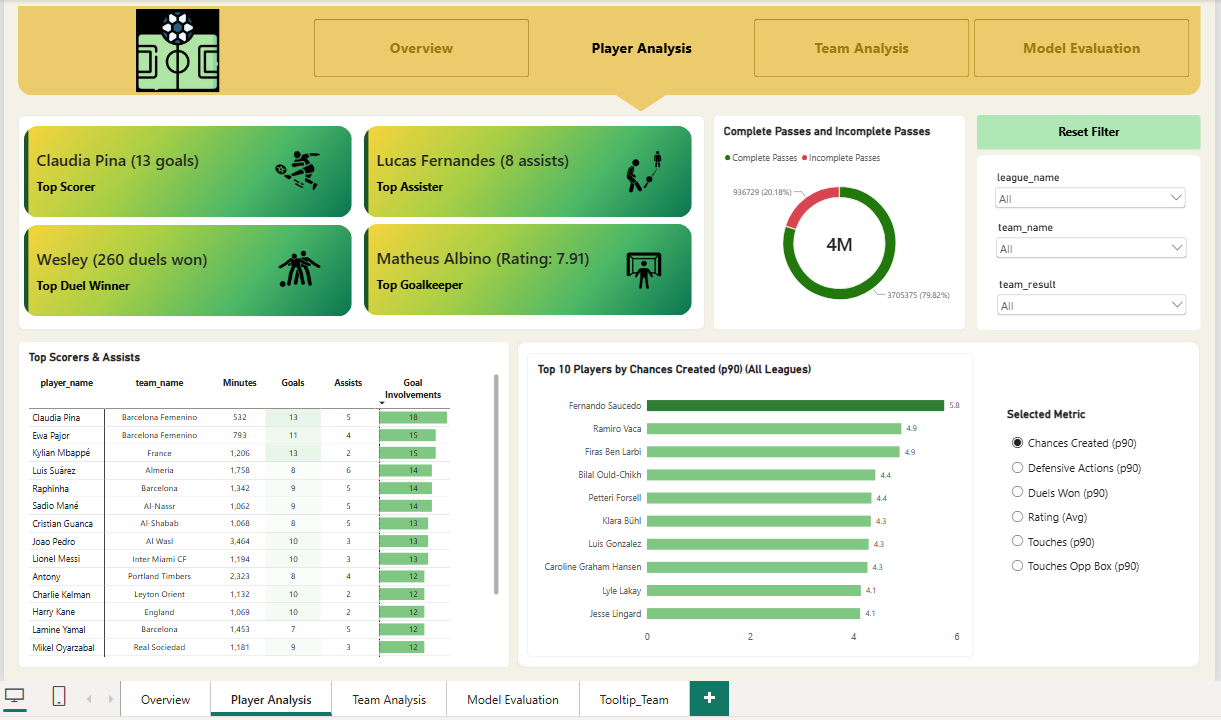

This screenshot's page, from the dashboard's own definition file:
{"tool":"powerbi","page":{"name":"Player Analysis","canvas":[1920,1080],"ordinal":1},"visuals":[{"type":"shape","box":[958.8,110.6,101.1,66.1],"z":0,"group":"g1"},{"type":"shape","box":[21.5,182.8,1089.2,341.1],"z":0},{"type":"shape","box":[1542.4,245.8,354.9,278.1],"z":0,"group":"g3"},{"type":"shape","box":[814.2,540.8,1083.1,517.7],"z":0,"group":"g2"},{"type":"shape","box":[21.5,9.2,1875.8,141.5],"z":1000,"group":"g1"},{"type":"cardVisual","fields":{"Data":["Measures Table.Top Scorer Card"]},"box":[32.3,199.7,520,145],"z":1000},{"type":"slicer","fields":{"Values":["football_players_data.league_name"]},"box":[1565.5,271.2,311.7,65.8],"z":1000,"group":"g3"},{"type":"slicer","title":"Selected Metric","fields":{"Values":["Metric Selection.MetricName"]},"box":[1591.4,645.6,271.5,290.4],"z":1000,"group":"g2"},{"type":"image","box":[135,13.8,277.6,132.3],"z":2000,"group":"g1"},{"type":"cardVisual","fields":{"Data":["Measures Table.Top Assister Card"]},"box":[571.5,199.7,520,145],"z":2000},{"type":"slicer","fields":{"Values":["football_players_data.team_result"]},"box":[1569.5,440.7,310.1,74.3],"z":2000,"group":"g3"},{"type":"clusteredBarChart","fields":{"Y":["Measures Table.Selected Dynamic Metric"],"Category":["football_players_data.player_name"]},"box":[830.8,559.6,707.6,481.5],"z":2000,"group":"g2"},{"type":"pageNavigator","box":[490.2,29.2,1390.7,92.2],"z":3000,"group":"g1"},{"type":"cardVisual","fields":{"Data":["Measures Table.Top Duel"]},"box":[32.3,356.9,520,145],"z":3000},{"type":"cardVisual","fields":{"Data":["Measures Table.Top GK"]},"box":[570.8,355.4,520,145],"z":4000},{"type":"pivotTable","title":"Top Scorers & Assists","fields":{"Rows":["football_players_data.player_name"],"Values":["Min(football_players_data.team_name)","Measures Table.Total Minutes","Measures Table.Total Goals","Measures Table.Total Assists","Measures Table.Total Goal Involvements"]},"box":[21.5,540.8,780.4,517.7],"z":5000},{"type":"group","id":"g1","title":"Group 4","box":[21.5,9.2,1875.8,167.5],"z":6000},{"type":"slicer","fields":{"Values":["football_players_data.team_name"]},"box":[1568,351,311.7,71.6],"z":6000,"group":"g3"},{"type":"group","id":"g2","title":"Group 1","box":[814.2,540.8,1083.1,517.7],"z":7000},{"type":"group","id":"g3","title":"Group 3","box":[1542.4,245.8,354.9,278.1],"z":8000},{"type":"donutChart","fields":{"Y":["Measures Table.Accurate Passes","Measures Table.Incomplete Passes"]},"box":[1124.6,182.8,401,341.1],"z":9000},{"type":"actionButton","box":[1542.5,183,355,55],"z":10000},{"type":"image","box":[958.6,393.3,113.7,72.2],"z":11000},{"type":"image","box":[430.2,393.3,78.3,66.1],"z":12000},{"type":"image","box":[977.1,239.7,76.8,66.1],"z":13000},{"type":"image","box":[420.9,230.4,90.6,81.4],"z":14000}]}

Visuals, with their boxes on the page's 1920x1080 design canvas (x1, y1, x2, y2). These are canvas units, not pixel positions in the 1221x720 screenshot, which may show the page scaled, cropped or inside an application window:
shape: {"x1": 959, "y1": 111, "x2": 1060, "y2": 177}
shape: {"x1": 22, "y1": 183, "x2": 1111, "y2": 524}
shape: {"x1": 1542, "y1": 246, "x2": 1897, "y2": 524}
shape: {"x1": 814, "y1": 541, "x2": 1897, "y2": 1058}
shape: {"x1": 22, "y1": 9, "x2": 1897, "y2": 151}
cardVisual - Measures Table.Top Scorer Card: {"x1": 32, "y1": 200, "x2": 552, "y2": 345}
slicer - football_players_data.league_name: {"x1": 1566, "y1": 271, "x2": 1877, "y2": 337}
"Selected Metric" slicer: {"x1": 1591, "y1": 646, "x2": 1863, "y2": 936}
image: {"x1": 135, "y1": 14, "x2": 413, "y2": 146}
cardVisual - Measures Table.Top Assister Card: {"x1": 572, "y1": 200, "x2": 1092, "y2": 345}
slicer - football_players_data.team_result: {"x1": 1570, "y1": 441, "x2": 1880, "y2": 515}
clusteredBarChart - Measures Table.Selected Dynamic Metric x football_players_data.player_name: {"x1": 831, "y1": 560, "x2": 1538, "y2": 1041}
pageNavigator: {"x1": 490, "y1": 29, "x2": 1881, "y2": 121}
cardVisual - Measures Table.Top Duel: {"x1": 32, "y1": 357, "x2": 552, "y2": 502}
cardVisual - Measures Table.Top GK: {"x1": 571, "y1": 355, "x2": 1091, "y2": 500}
"Top Scorers & Assists" pivotTable: {"x1": 22, "y1": 541, "x2": 802, "y2": 1058}
"Group 4" group: {"x1": 22, "y1": 9, "x2": 1897, "y2": 177}
slicer - football_players_data.team_name: {"x1": 1568, "y1": 351, "x2": 1880, "y2": 423}
"Group 1" group: {"x1": 814, "y1": 541, "x2": 1897, "y2": 1058}
"Group 3" group: {"x1": 1542, "y1": 246, "x2": 1897, "y2": 524}
donutChart - Measures Table.Accurate Passes x Measures Table.Incomplete Passes: {"x1": 1125, "y1": 183, "x2": 1526, "y2": 524}
actionButton: {"x1": 1542, "y1": 183, "x2": 1898, "y2": 238}
image: {"x1": 959, "y1": 393, "x2": 1072, "y2": 466}
image: {"x1": 430, "y1": 393, "x2": 508, "y2": 459}
image: {"x1": 977, "y1": 240, "x2": 1054, "y2": 306}
image: {"x1": 421, "y1": 230, "x2": 512, "y2": 312}
